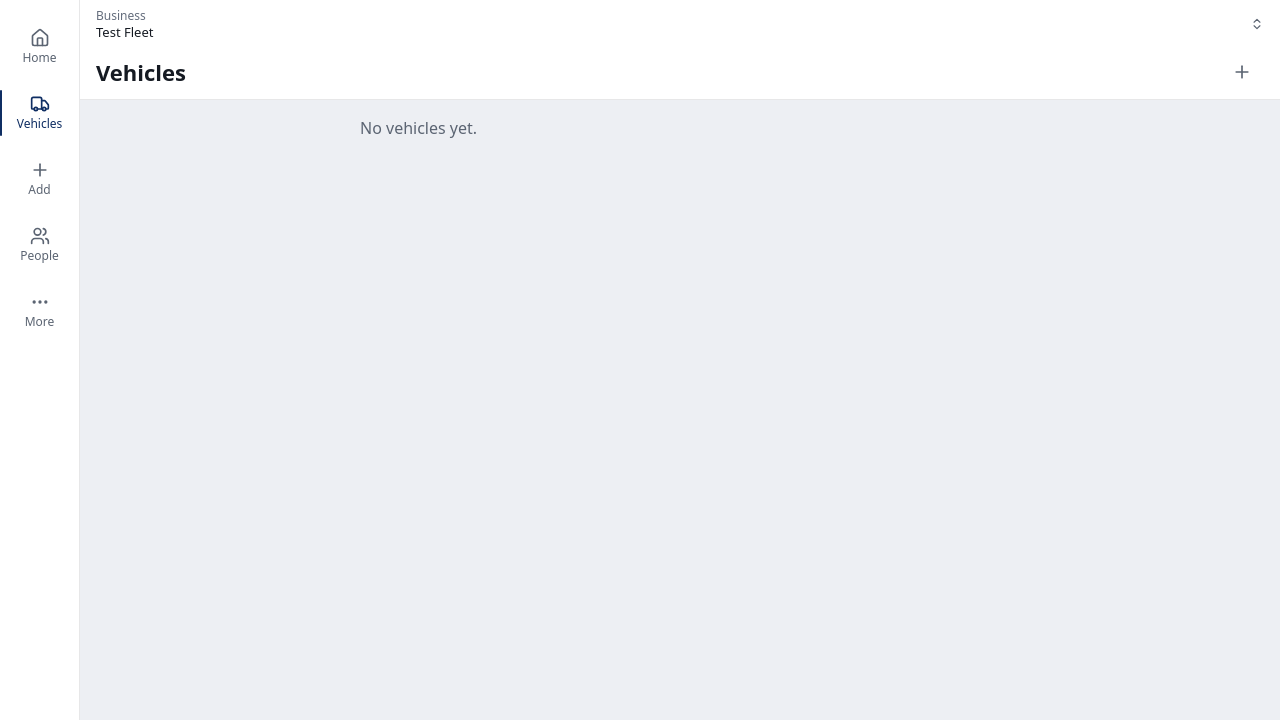
Test case: opening and dismissing a sheet (via its visible close button) on a routed screen leaves the route unchanged
Expected: the text "No vehicles yet." is shown, [360, 117, 477, 139]
Click the button named "Add a vehicle".
click(1242, 72)  # box [1220, 50, 1264, 94]
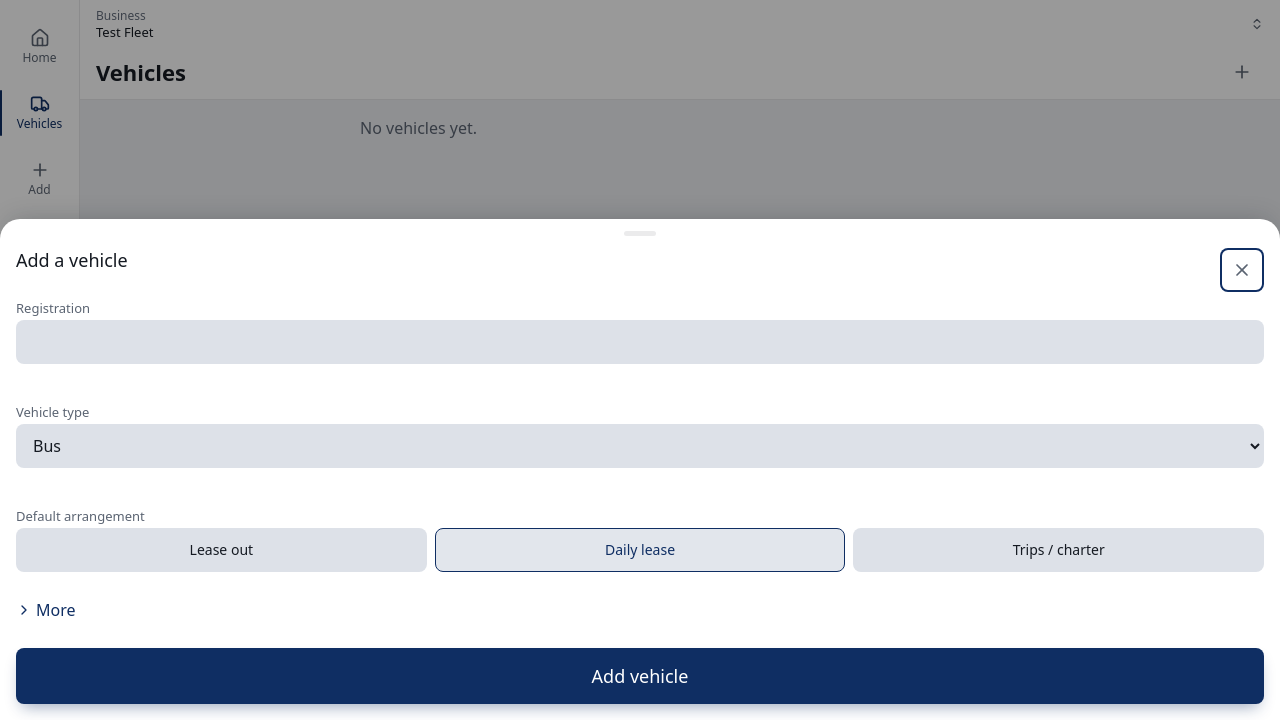
Now the field labelled "Registration" is shown, box [16, 320, 1264, 364]
Click the button named "Close".
click(1242, 270)  # box [1220, 248, 1264, 292]
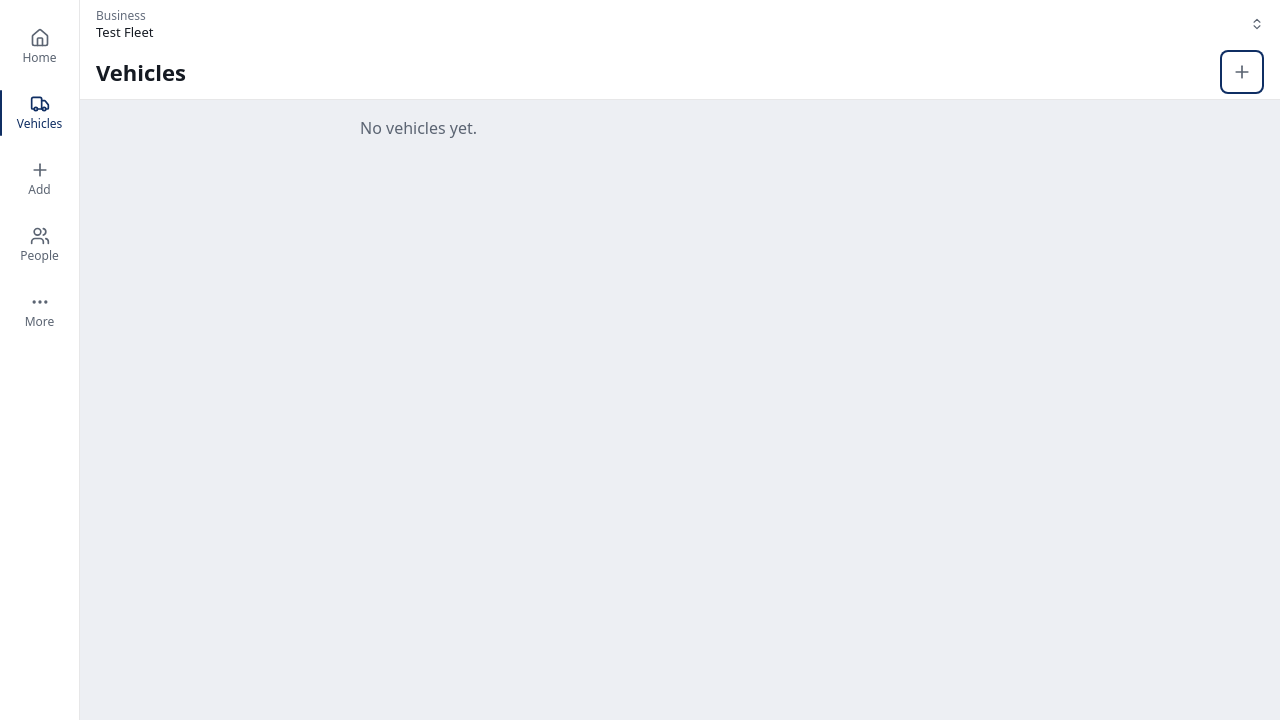
Expected: the text "No vehicles yet." is shown, [360, 117, 477, 139]
Now the label labelled "Registration" is gone
